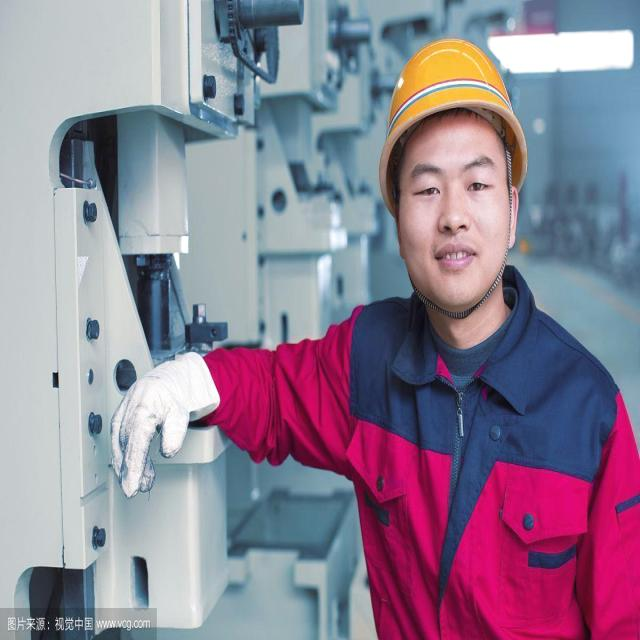face_nomask: (404, 131, 509, 319)
hand_glove: (100, 353, 218, 493)
head_helmet: (378, 40, 528, 210)
person: (370, 39, 601, 640)
